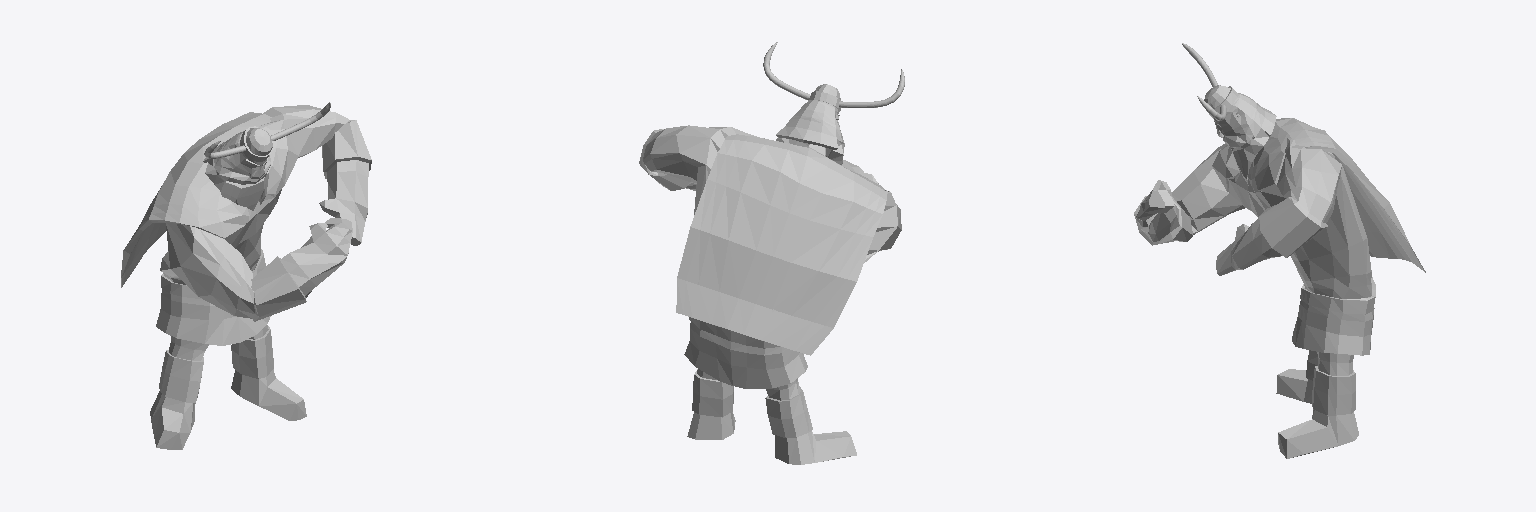
File: vikingoCelebracionobj_000506.obj
The picture shows the model from 3 angles: view 1: azimuth 30°, elevation 25°; view 2: azimuth 150°, elevation 25°; view 3: azimuth 270°, elevation 25°; orthographic projection.
Visible parts, largest first — view 1: Vikingo; view 2: Vikingo; view 3: Vikingo.
Boxes of the visible parts, x1=… form: Vikingo: x1=121, y1=102, x2=371, y2=449; Vikingo: x1=639, y1=42, x2=904, y2=464; Vikingo: x1=1134, y1=43, x2=1425, y2=458.
Bounding box in the file's own units: 4.21 × 6.38 × 4.79.